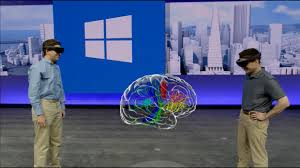hololens: (235, 54, 263, 68), (40, 44, 64, 56)
